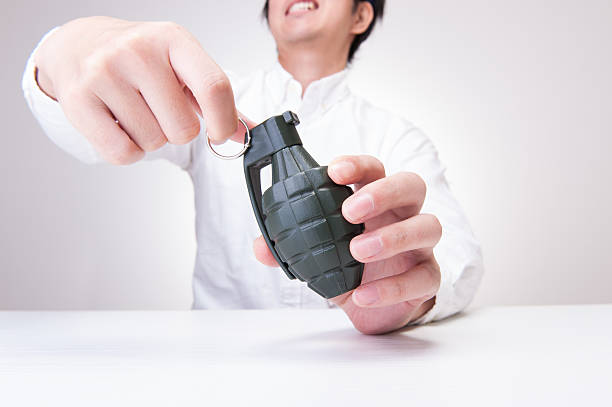e1: (208, 113, 366, 295)
